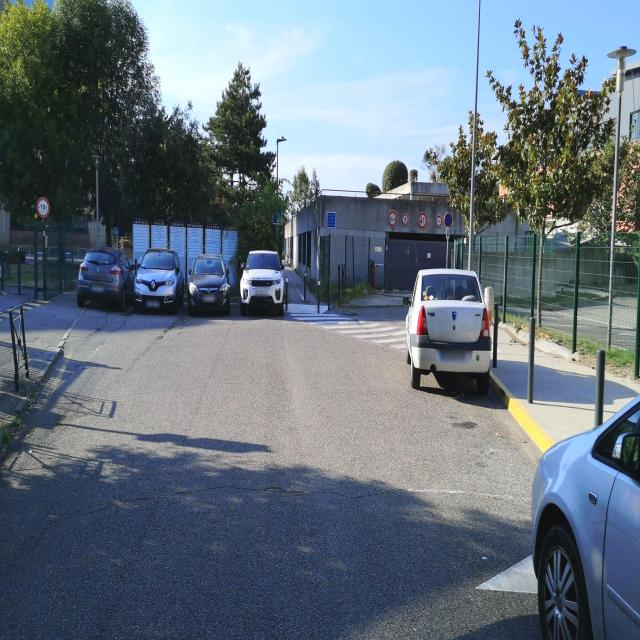car: (530, 378, 640, 637), (405, 266, 492, 394), (76, 246, 135, 310), (133, 245, 185, 314), (239, 248, 289, 316), (187, 253, 231, 315)
